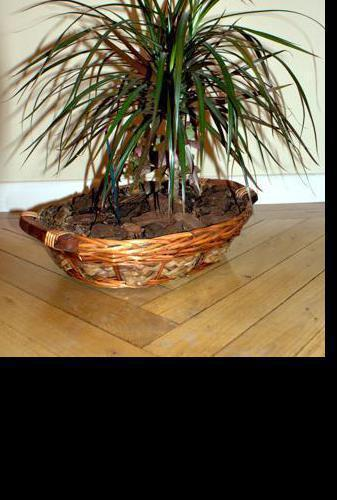Matera: (0, 0, 318, 288)
